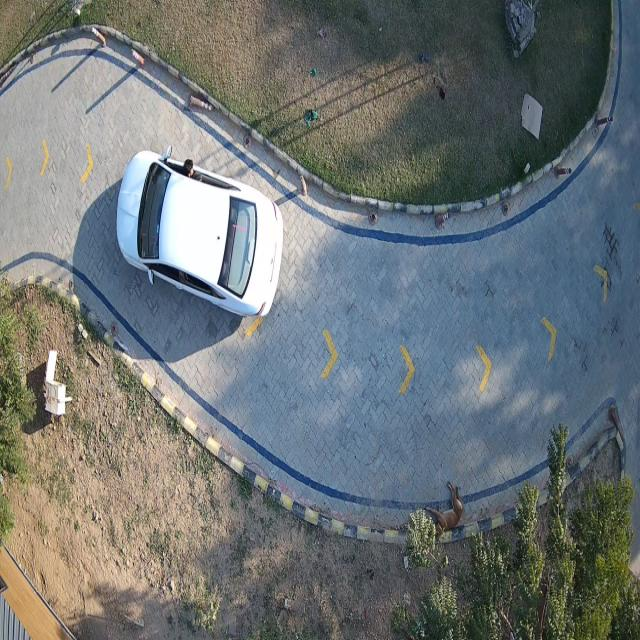car: (116, 147, 284, 314)
